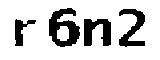2: (114, 6, 145, 51)
6: (45, 5, 81, 48)
n: (82, 16, 113, 49)
r: (10, 17, 39, 51)
